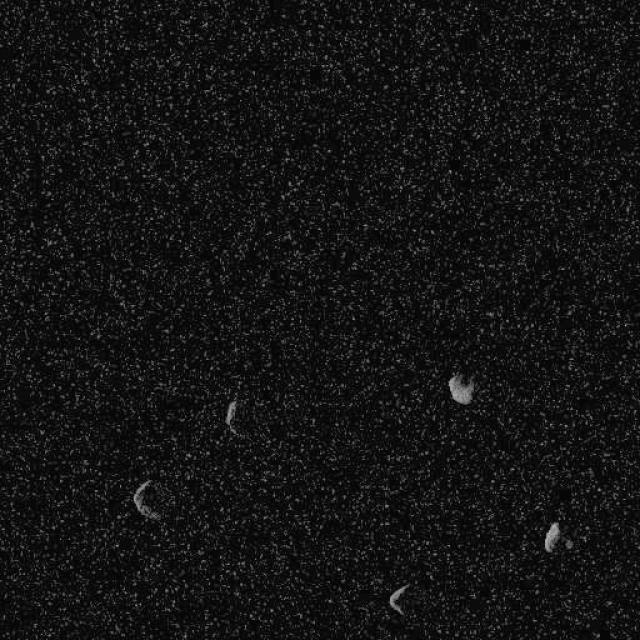D2: (132, 479, 162, 521), (446, 371, 475, 405), (388, 582, 410, 616), (542, 520, 560, 552), (224, 398, 238, 428)
